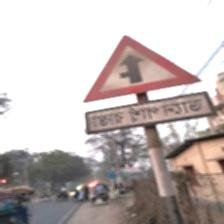Side-road-right: (85, 36, 218, 132)
